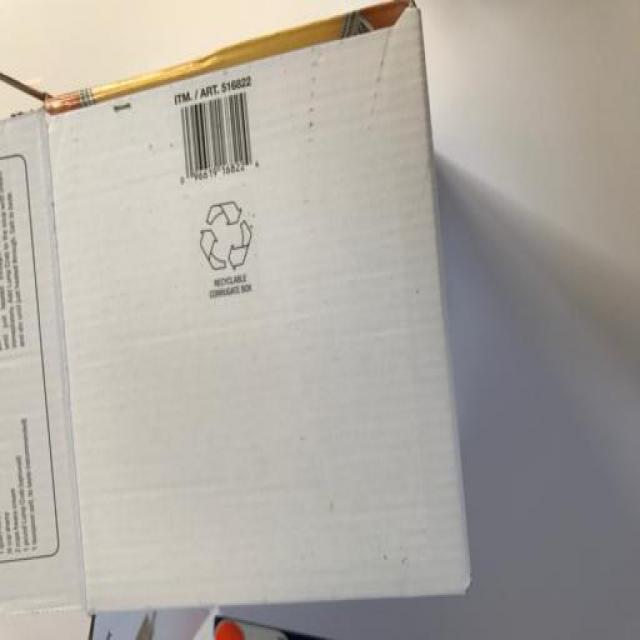cardboard: (1, 1, 497, 609)
